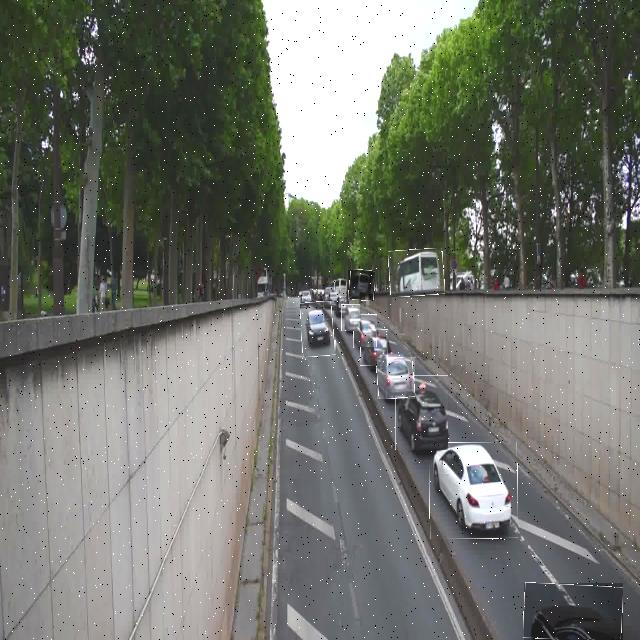Bus: (389, 250, 445, 296), (348, 270, 375, 300)
Car: (430, 443, 518, 539), (524, 583, 623, 640), (395, 375, 448, 450), (302, 301, 336, 357), (377, 357, 415, 399), (361, 329, 388, 366), (354, 314, 377, 347), (341, 304, 360, 331)
